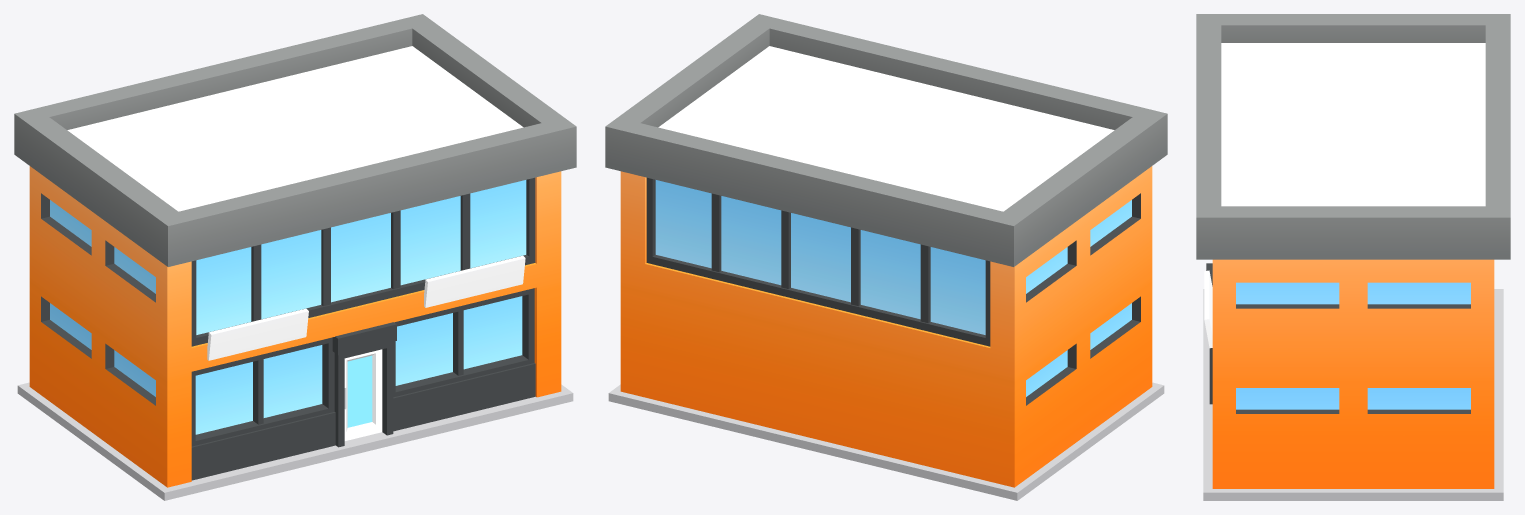
The model's file is city2-building-supermarket-01.glb.
The picture shows the model from 3 angles, left to right: view 1: azimuth 30°, elevation 25°; view 2: azimuth 150°, elevation 25°; view 3: azimuth 270°, elevation 25°; orthographic projection. The views are drawn at different scales.
Parts seen in each view (by area): view 1: Building_Supermarket_01; view 2: Building_Supermarket_01; view 3: Building_Supermarket_01.
Boxes of the visible parts, bbox=[...] form: Building_Supermarket_01: bbox=[14, 14, 576, 500]; Building_Supermarket_01: bbox=[605, 14, 1167, 500]; Building_Supermarket_01: bbox=[1196, 14, 1510, 500].
Bounding box in the file's own units: 10.53 × 6.82 × 6.86.
1 material, 1 textured.
